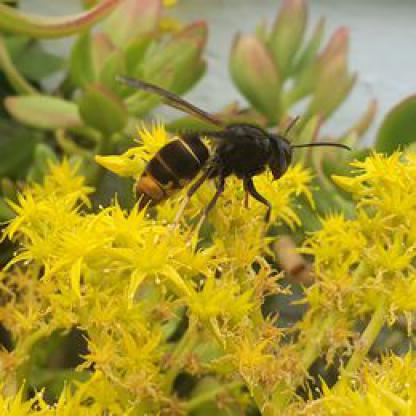Asian Hornet: (113, 57, 351, 229)
